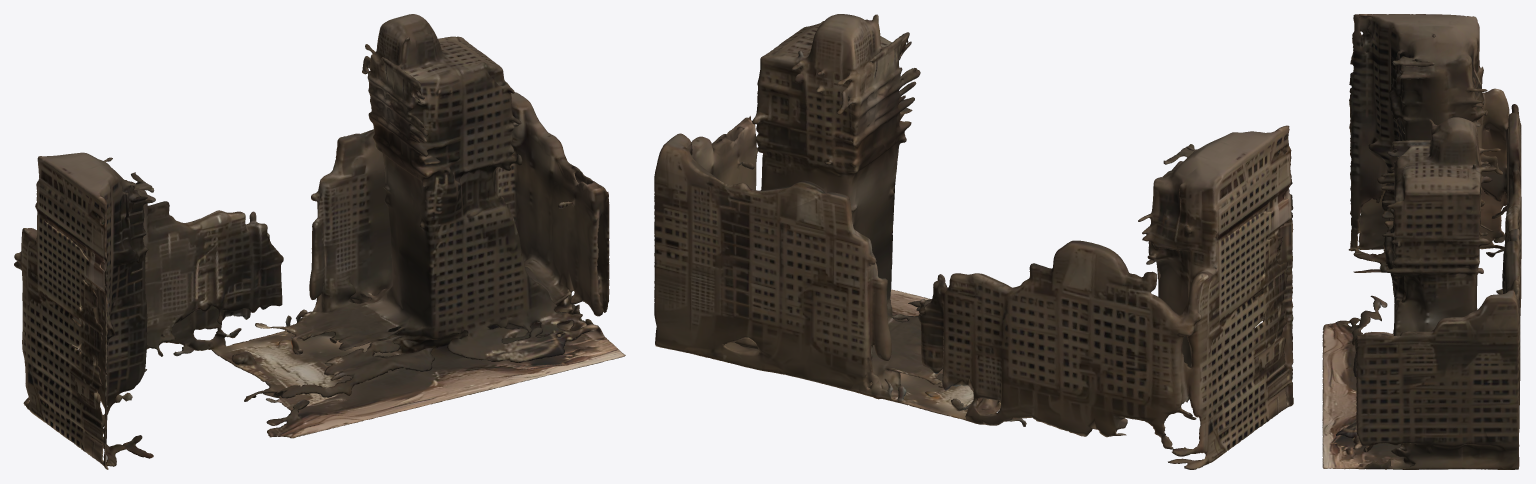
Rendered from ruined_megastructures_91688.glb.
3 views of the same model, side by side, from view 1: azimuth 30°, elevation 25°; view 2: azimuth 150°, elevation 25°; view 3: azimuth 270°, elevation 25° (orthographic). The views are drawn at different scales.
Visible parts, largest first — view 1: Mesh_001; view 2: Mesh_001; view 3: Mesh_001.
Part boxes in pixels (x1,y1,x2,y2): Mesh_001: (14,14,625,469); Mesh_001: (654,14,1293,469); Mesh_001: (1322,14,1521,469).
Bounding box in the file's own units: 1.89 × 1.15 × 0.7125.
1 material, 1 textured.
